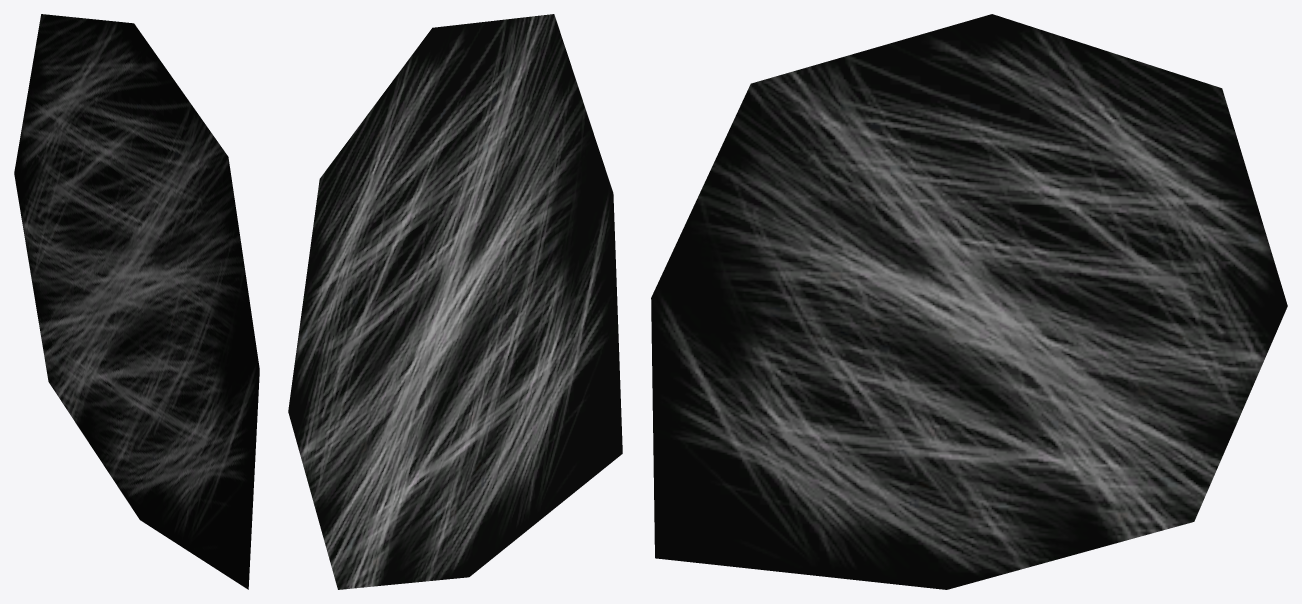
The model's file is DWARF_PALACE_SPIDERWEB_COVERS08.fbx.
3 views of the same model, side by side, from view 1: azimuth 30°, elevation 25°; view 2: azimuth 150°, elevation 25°; view 3: azimuth 270°, elevation 25° (orthographic). The views are drawn at different scales.
Visible parts, largest first — view 1: DWARF_PALACE_SPIDERWEB_COVERS08; view 2: DWARF_PALACE_SPIDERWEB_COVERS08; view 3: DWARF_PALACE_SPIDERWEB_COVERS08.
Boxes of the visible parts, bbox=[...] form: DWARF_PALACE_SPIDERWEB_COVERS08: bbox=[14, 14, 259, 589]; DWARF_PALACE_SPIDERWEB_COVERS08: bbox=[288, 14, 622, 589]; DWARF_PALACE_SPIDERWEB_COVERS08: bbox=[651, 14, 1287, 589].
Bounding box in the file's own units: 1531 × 27287 × 26979.
Materials: 1 (1 with a texture image).
